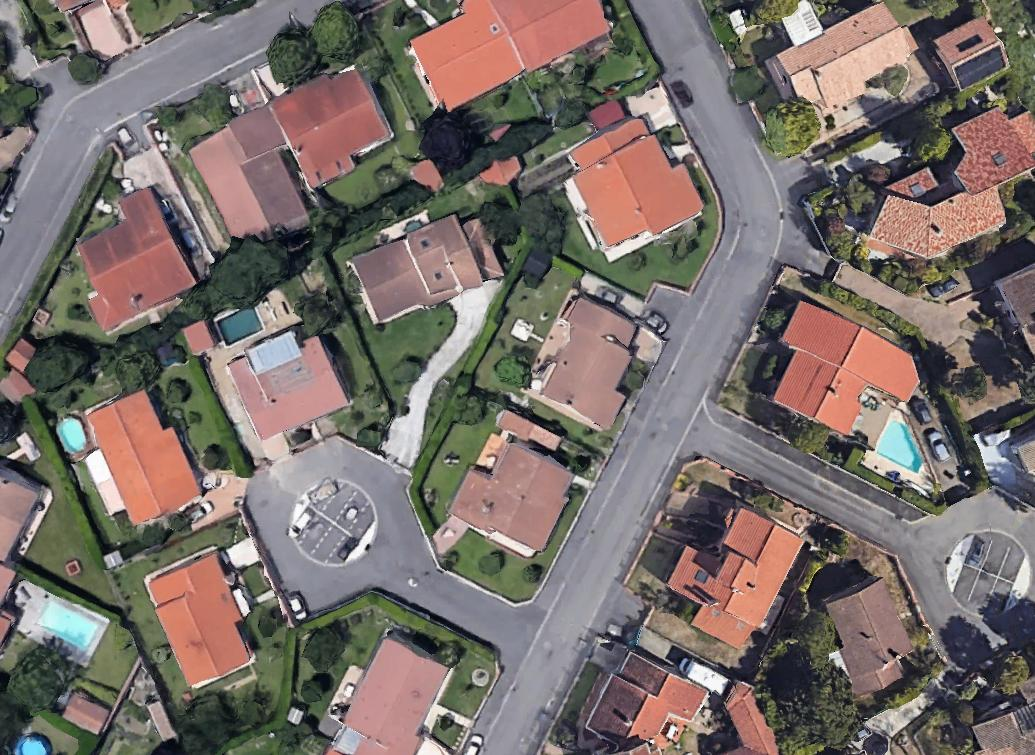maison: (840, 89, 1035, 291), (755, 299, 929, 454), (396, 0, 615, 117), (548, 104, 708, 264), (655, 491, 804, 652), (53, 186, 198, 333), (763, 0, 925, 129), (519, 288, 659, 435), (346, 203, 503, 331), (184, 105, 315, 253), (447, 428, 580, 560), (267, 59, 399, 191), (84, 384, 204, 529), (222, 317, 352, 444), (143, 552, 261, 690), (327, 631, 454, 755), (573, 644, 712, 755), (814, 575, 923, 700), (0, 459, 52, 650), (930, 12, 1012, 92), (719, 681, 782, 755)
